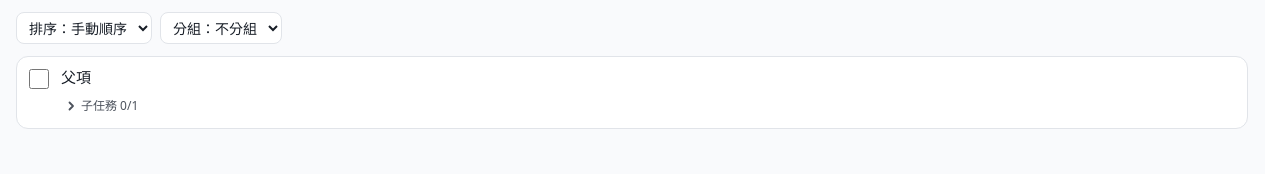
Test case: TaskListView.vue › 子任務：資料層一直支援，現在畫面上也走得到 › 子項可獨立完成，進度隨之更新
Click the button "子任務 0/1" at point(102, 106), box top-left (61, 95), bottom-right (142, 117)
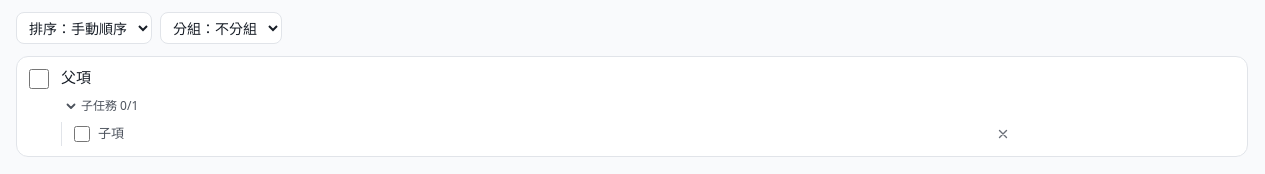
Click the checkbox named "標記子任務「子項」為已完成" at point(82, 134), box top-left (74, 126), bottom-right (90, 142)
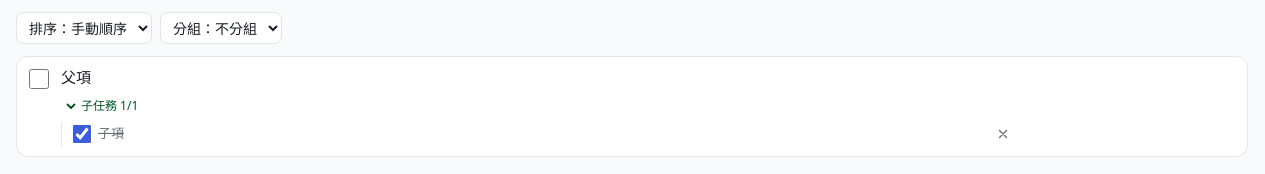
expect the list item "父項 子任務 1/1 子項" is shown: met, box top-left (16, 56), bottom-right (1248, 157)
